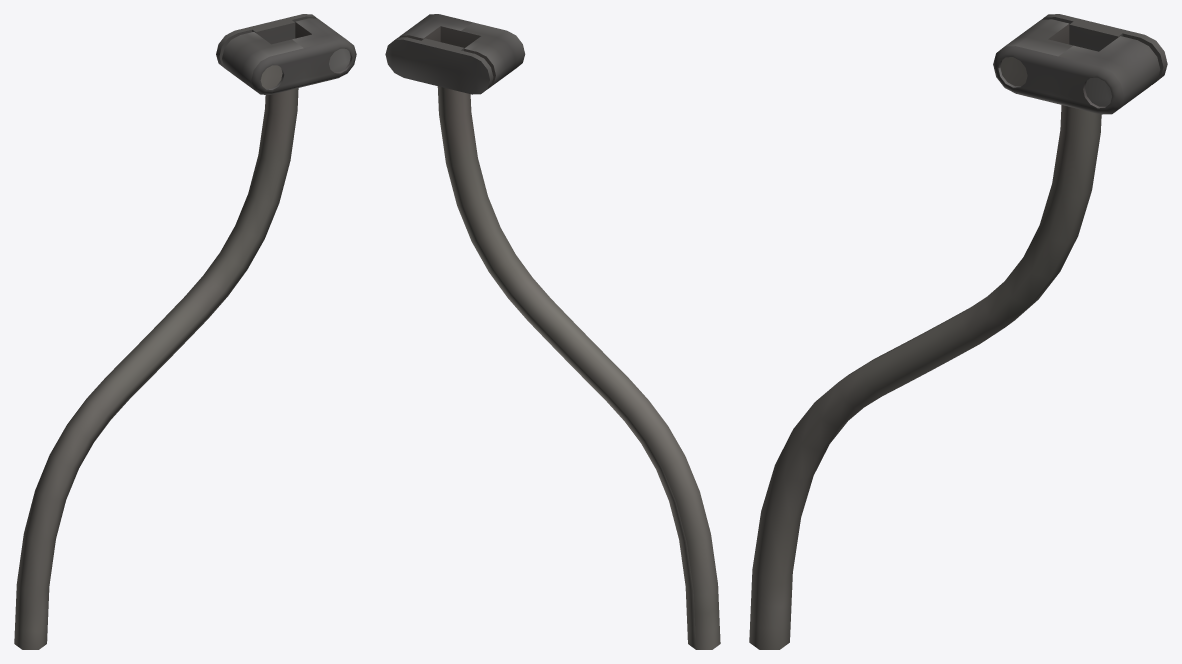
Rendered from wall-cable-bend--4.gltf.
3 renders of one model, left to right at view 1: azimuth 30°, elevation 25°; view 2: azimuth 150°, elevation 25°; view 3: azimuth 330°, elevation 25°, orthographic. The views are drawn at different scales.
Parts seen in each view (by area): view 1: cable_scurve_2; view 2: cable_scurve_2; view 3: cable_scurve_2.
Part boxes in pixels (x1=…): cable_scurve_2: x1=14, y1=14, x2=356, y2=649; cable_scurve_2: x1=385, y1=14, x2=720, y2=649; cable_scurve_2: x1=749, y1=14, x2=1167, y2=649.
Bounding box in the file's own units: 0.1257 × 0.2073 × 0.0259.
1 material, 1 textured.
